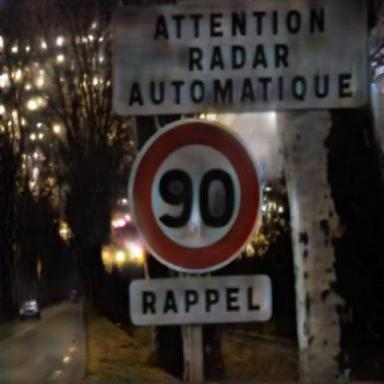Speed_limit_90: (131, 122, 254, 268)
